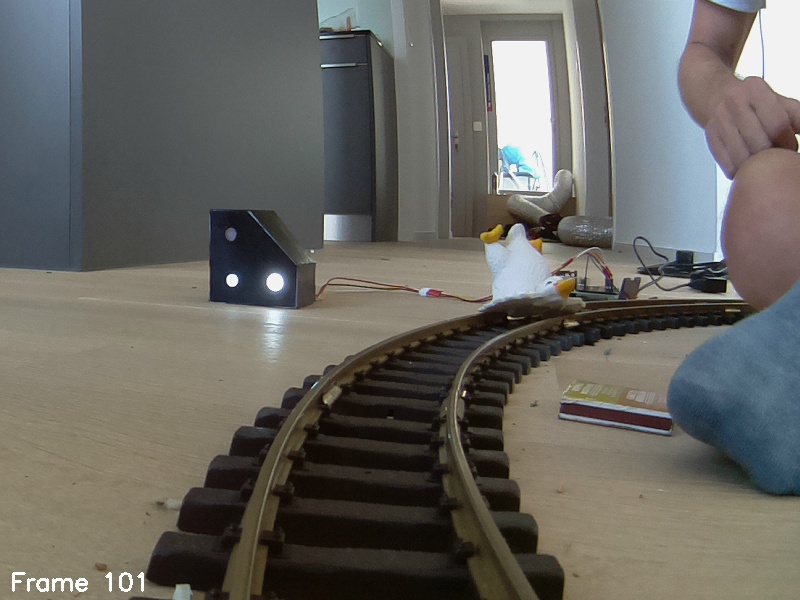Ente: (467, 222, 589, 321)
Halt: (212, 210, 317, 309)
